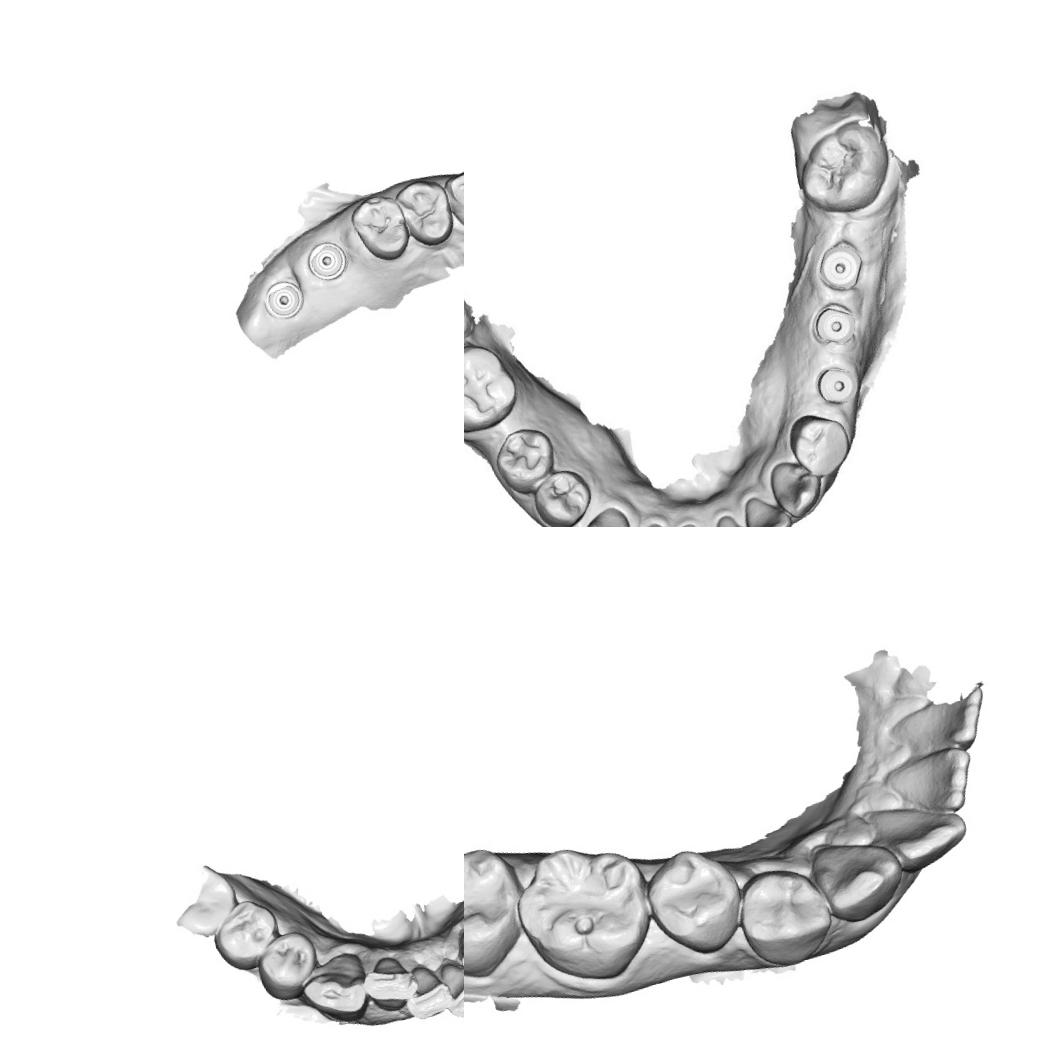canine: (802, 828, 912, 929), (298, 953, 373, 1027), (768, 455, 822, 512), (440, 159, 464, 234), (579, 509, 632, 527)
implant: (807, 354, 869, 413), (814, 238, 870, 297), (809, 296, 862, 348), (258, 276, 309, 326), (302, 237, 352, 285)
incisor: (878, 678, 996, 768), (864, 787, 974, 881), (880, 740, 981, 826), (361, 950, 424, 1014), (399, 958, 455, 1024), (433, 943, 464, 1022), (740, 491, 792, 527), (707, 512, 761, 527), (451, 919, 464, 981)
molar: (504, 832, 664, 996), (785, 114, 903, 224), (464, 831, 539, 996), (464, 338, 525, 442)
premolar: (636, 838, 750, 966), (729, 858, 834, 970), (205, 894, 285, 974), (347, 187, 417, 268), (392, 172, 460, 254), (250, 929, 321, 1002), (787, 407, 855, 481), (492, 421, 558, 496), (528, 470, 592, 527)
